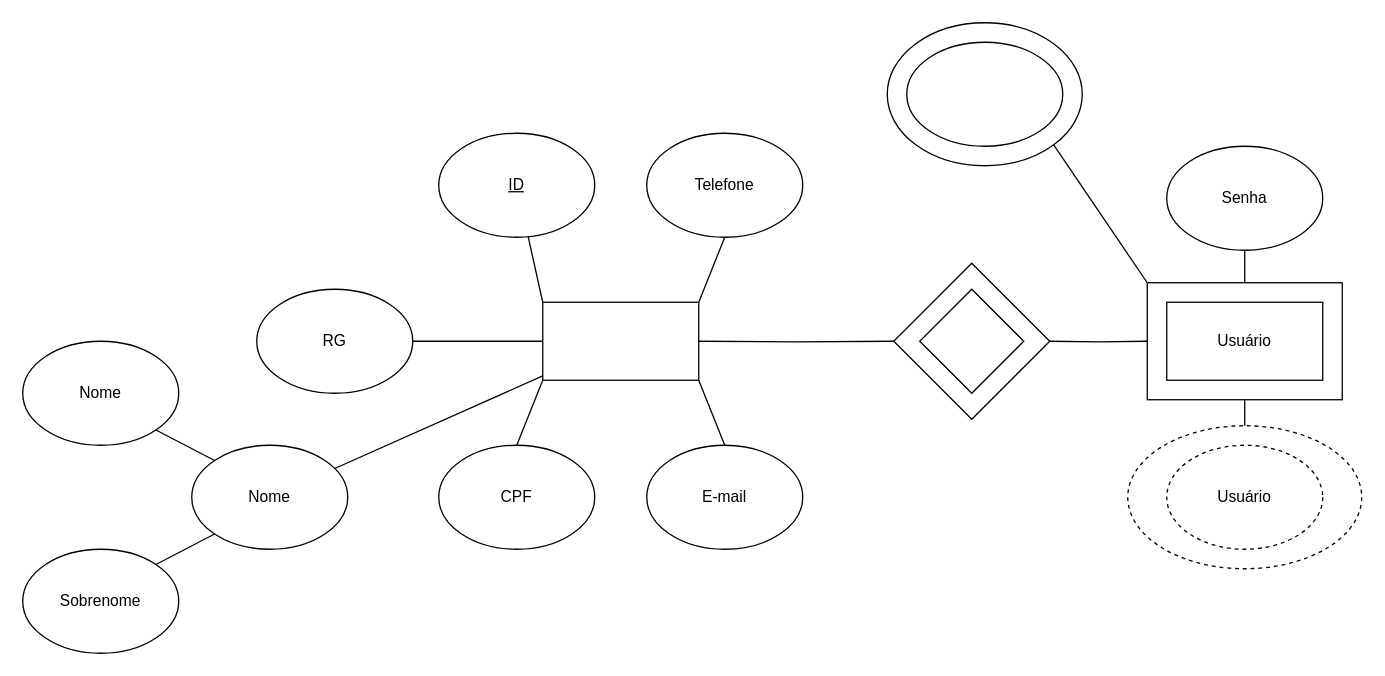
Some shapes in this 1385 by 676 pixel diagram are drawn without their labels. Each missing label, with the centre of its shape:
"Papel" goes at (x=984, y=93).
"Pessoa" goes at (x=620, y=340).
"Pessoa possuí Usuário" goes at (x=971, y=340).
